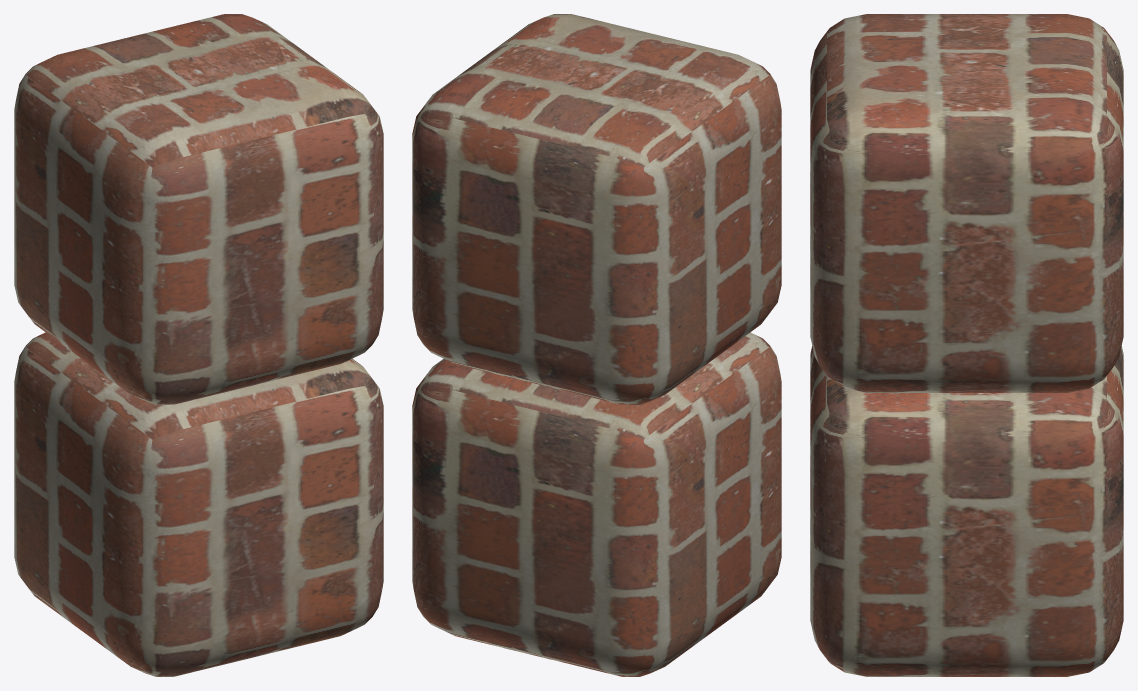
File: tile1.fbx
3 renders of one model, left to right at view 1: azimuth 30°, elevation 25°; view 2: azimuth 150°, elevation 25°; view 3: azimuth 270°, elevation 25°, orthographic. The views are drawn at different scales.
Parts seen in each view (by area): view 1: 砖块; view 2: 砖块; view 3: 砖块.
Boxes of the visible parts, x1,y1,x2,y2 form: 砖块: [14, 14, 383, 676]; 砖块: [412, 14, 781, 676]; 砖块: [810, 14, 1123, 676].
Size of the model in its own units: 0.5 by 1 by 0.5.
1 material, 1 textured.
